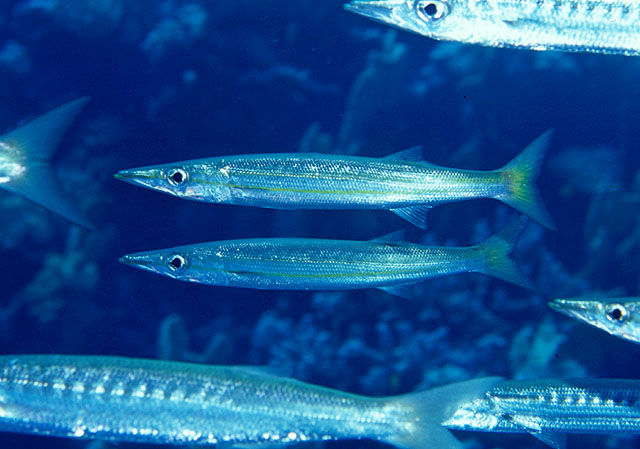fish: (113, 127, 559, 233), (115, 229, 538, 295)
